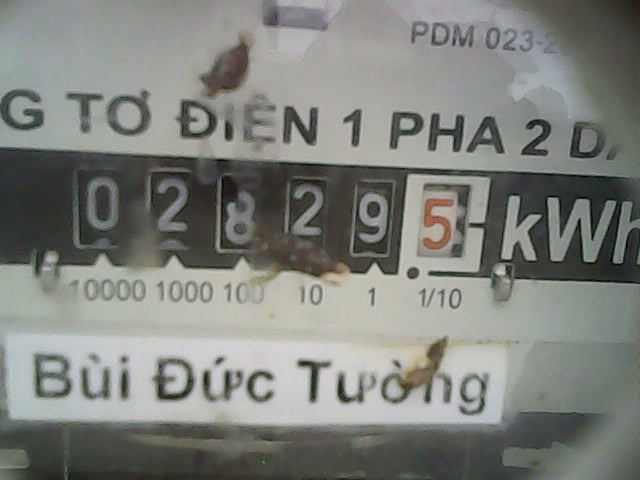phy_plate: (56, 149, 498, 285)
